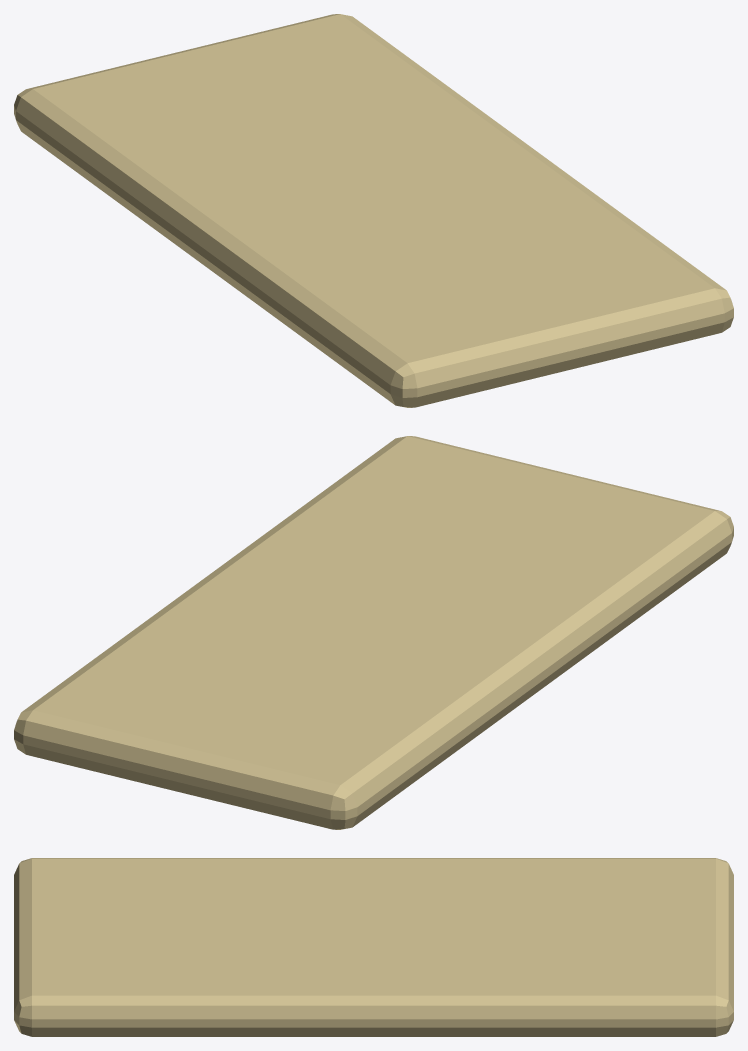
The model's file is straw_mattress.glb.
3 views of the same model, one above another, from view 1: azimuth 30°, elevation 25°; view 2: azimuth 150°, elevation 25°; view 3: azimuth 270°, elevation 25° (orthographic). The views are drawn at different scales.
Parts seen in each view (by area): view 1: straw_mattress; view 2: straw_mattress; view 3: straw_mattress.
Boxes of the visible parts, left/top/right/bottom form: straw_mattress: left=14, top=14, right=733, bottom=407; straw_mattress: left=14, top=436, right=733, bottom=829; straw_mattress: left=14, top=858, right=733, bottom=1036.
Bounding box in the file's own units: 0.4 × 0.05 × 0.8.
